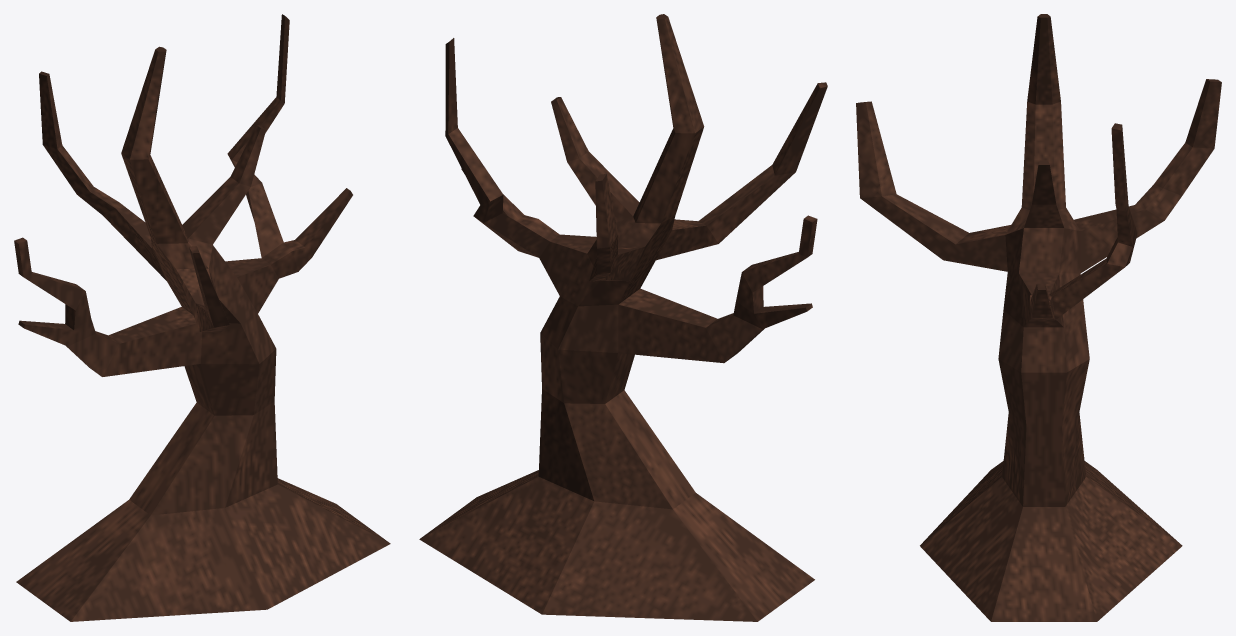
Rendered from SM_tree.fbx.
The picture shows the model from 3 angles, left to right: view 1: azimuth 30°, elevation 25°; view 2: azimuth 150°, elevation 25°; view 3: azimuth 270°, elevation 25°; orthographic projection. The views are drawn at different scales.
Visible parts, largest first — view 1: SM_TREE; view 2: SM_TREE; view 3: SM_TREE.
Part boxes in pixels (x1,y1,x2,y2): SM_TREE: (14, 14, 390, 621); SM_TREE: (419, 14, 827, 621); SM_TREE: (856, 14, 1221, 621).
Size of the model in its own units: 422 by 607 by 395.
Materials: 1 (1 with a texture image).
